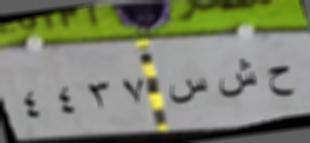3: (87, 71, 116, 111)
4: (52, 80, 82, 119), (20, 86, 46, 123)
7: (121, 73, 145, 107)
7aa: (266, 59, 299, 104)
seen: (168, 72, 212, 107)
sheen: (219, 55, 258, 106)
